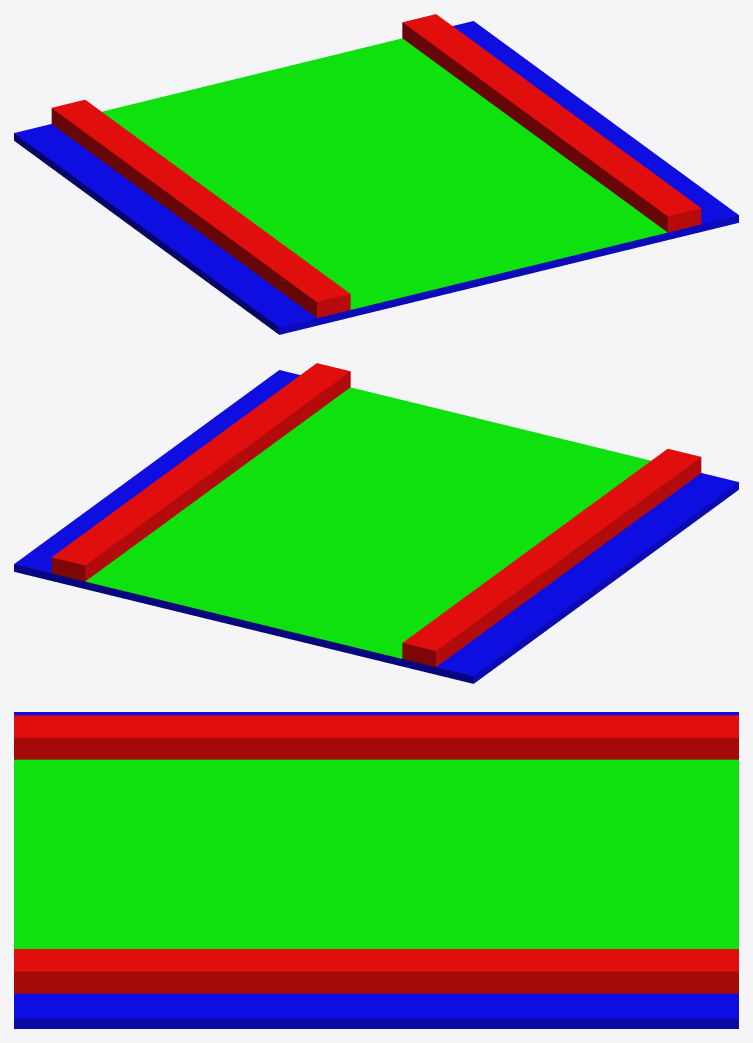
Rendered from roadStraight_3x3.fbx.
The picture shows the model from 3 angles, top to bottom: view 1: azimuth 30°, elevation 25°; view 2: azimuth 150°, elevation 25°; view 3: azimuth 270°, elevation 25°; orthographic projection. The views are drawn at different scales.
Parts seen in each view (by area): view 1: roadStraight_3x3, roadStraight_3x3_wall; view 2: roadStraight_3x3, roadStraight_3x3_wall; view 3: roadStraight_3x3, roadStraight_3x3_wall.
Part boxes in pixels (left/top/right/bottom): roadStraight_3x3: left=14, top=21, right=738, bottom=334; roadStraight_3x3_wall: left=51, top=14, right=701, bottom=317; roadStraight_3x3: left=14, top=370, right=738, bottom=683; roadStraight_3x3_wall: left=51, top=363, right=701, bottom=666; roadStraight_3x3: left=14, top=712, right=738, bottom=1028; roadStraight_3x3_wall: left=14, top=715, right=738, bottom=993.
Bounding box in the file's own units: 3000 × 147 × 3000.
